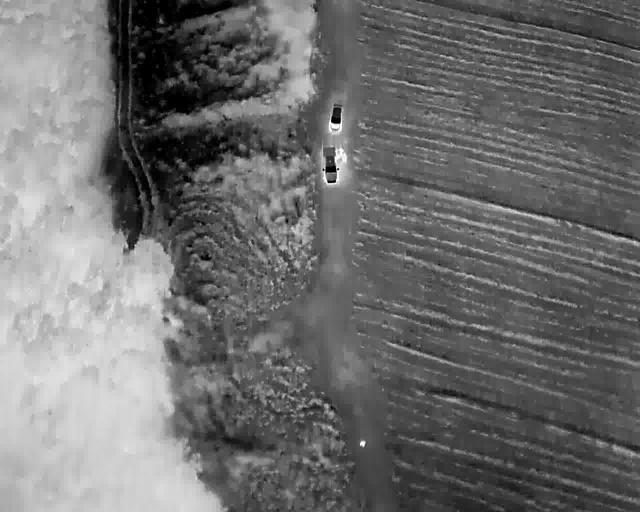car: (322, 147, 339, 183), (328, 103, 343, 133)
person: (359, 439, 366, 447), (341, 152, 346, 163), (338, 147, 343, 155)
